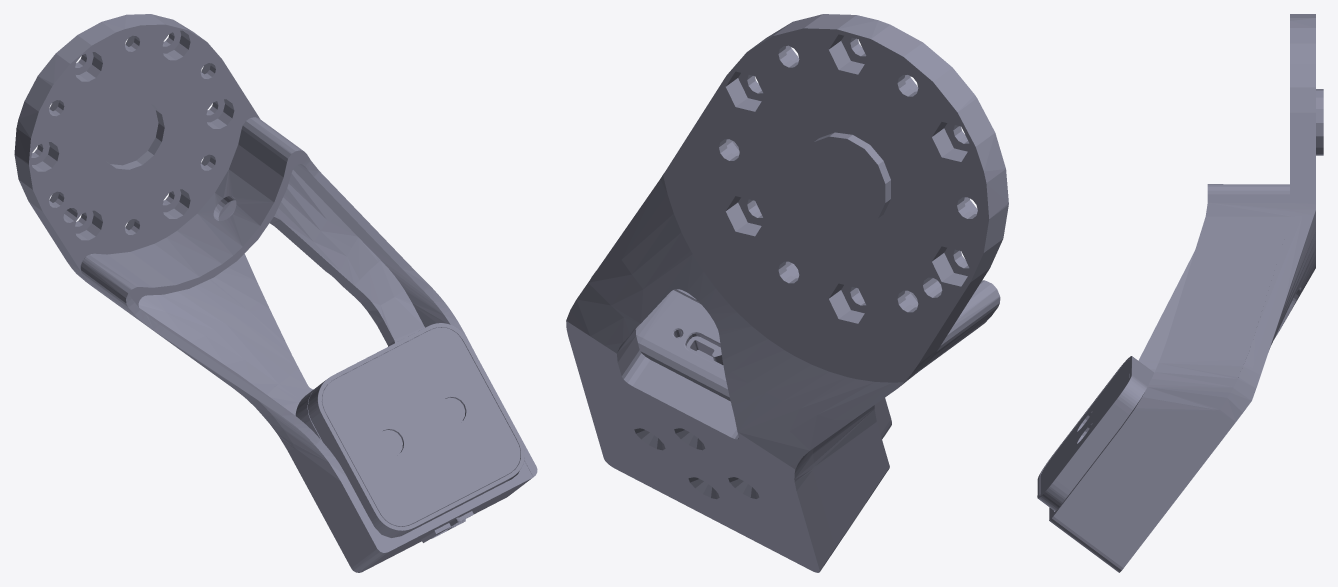
Rendered from falan1_visuals.obj.
3 views of the same model, side by side, from view 1: azimuth 30°, elevation 25°; view 2: azimuth 150°, elevation 25°; view 3: azimuth 270°, elevation 25° (orthographic). The views are drawn at different scales.
Size of the model in its own units: 0.1091 by 0.1362 by 0.0766.
